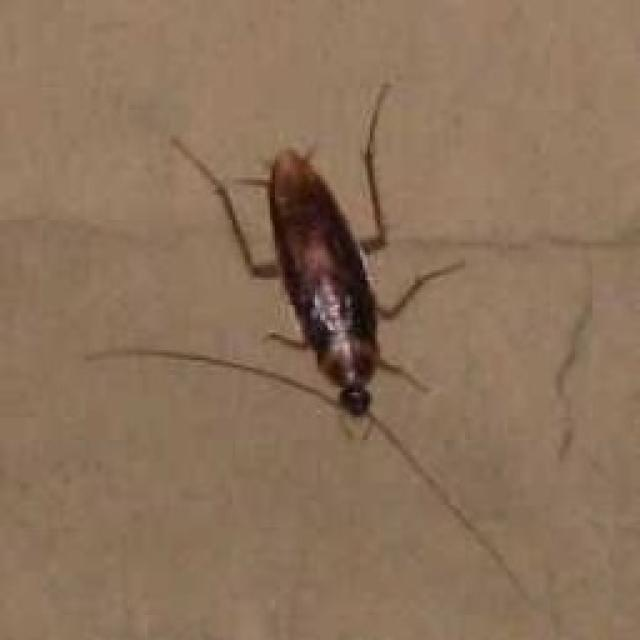cockroach: (262, 145, 409, 453)
